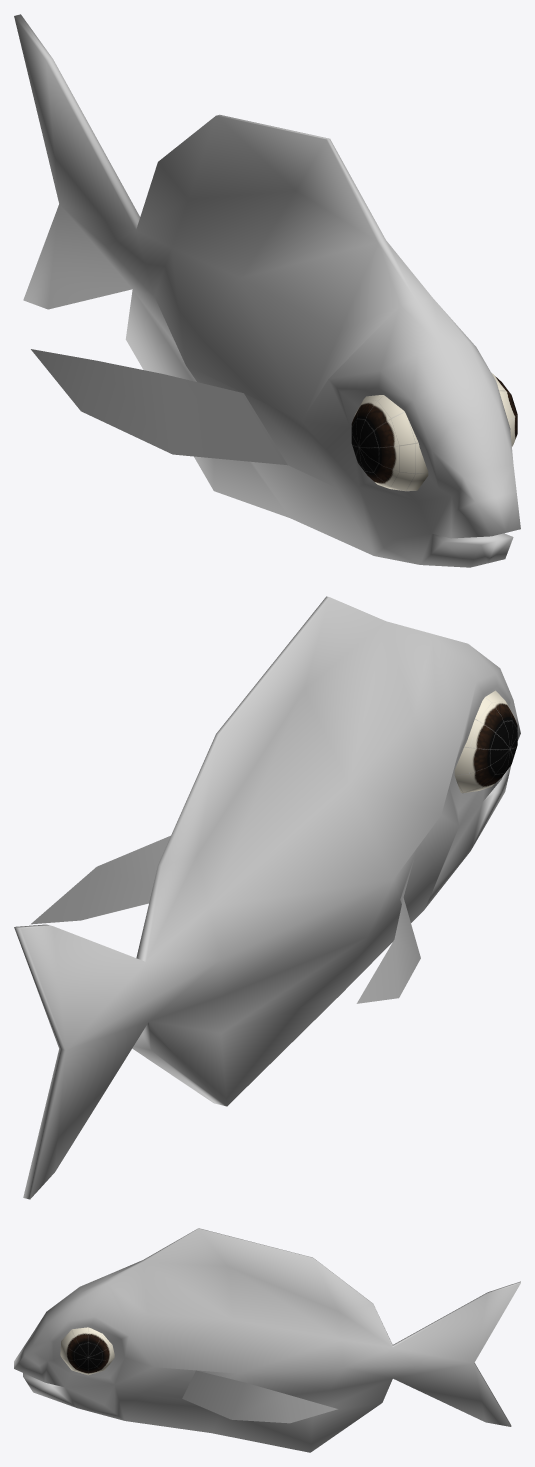
The model's file is friendly_fish.fbx.
The picture shows the model from 3 angles, top to bottom: view 1: azimuth 30°, elevation 25°; view 2: azimuth 150°, elevation 25°; view 3: azimuth 270°, elevation 25°; orthographic projection. The views are drawn at different scales.
Parts seen in each view (by area): view 1: polySurface3, pSphere1, pSphere2; view 2: polySurface3, pSphere1; view 3: polySurface3, pSphere2.
Boxes of the visible parts, bbox=[...] form: polySurface3: bbox=[14, 14, 520, 567]; pSphere1: bbox=[351, 395, 428, 491]; pSphere2: bbox=[491, 373, 517, 446]; polySurface3: bbox=[14, 596, 520, 1199]; pSphere1: bbox=[454, 690, 517, 793]; polySurface3: bbox=[14, 1228, 520, 1452]; pSphere2: bbox=[60, 1327, 114, 1375].
Bounding box in the file's own units: 10.66 × 13.4 × 27.67.
